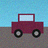vehicle: (11, 14, 43, 38)
